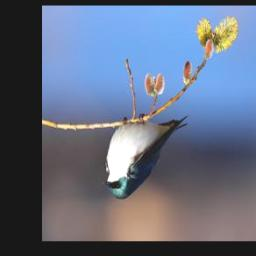Swallow: (101, 116, 188, 201)
